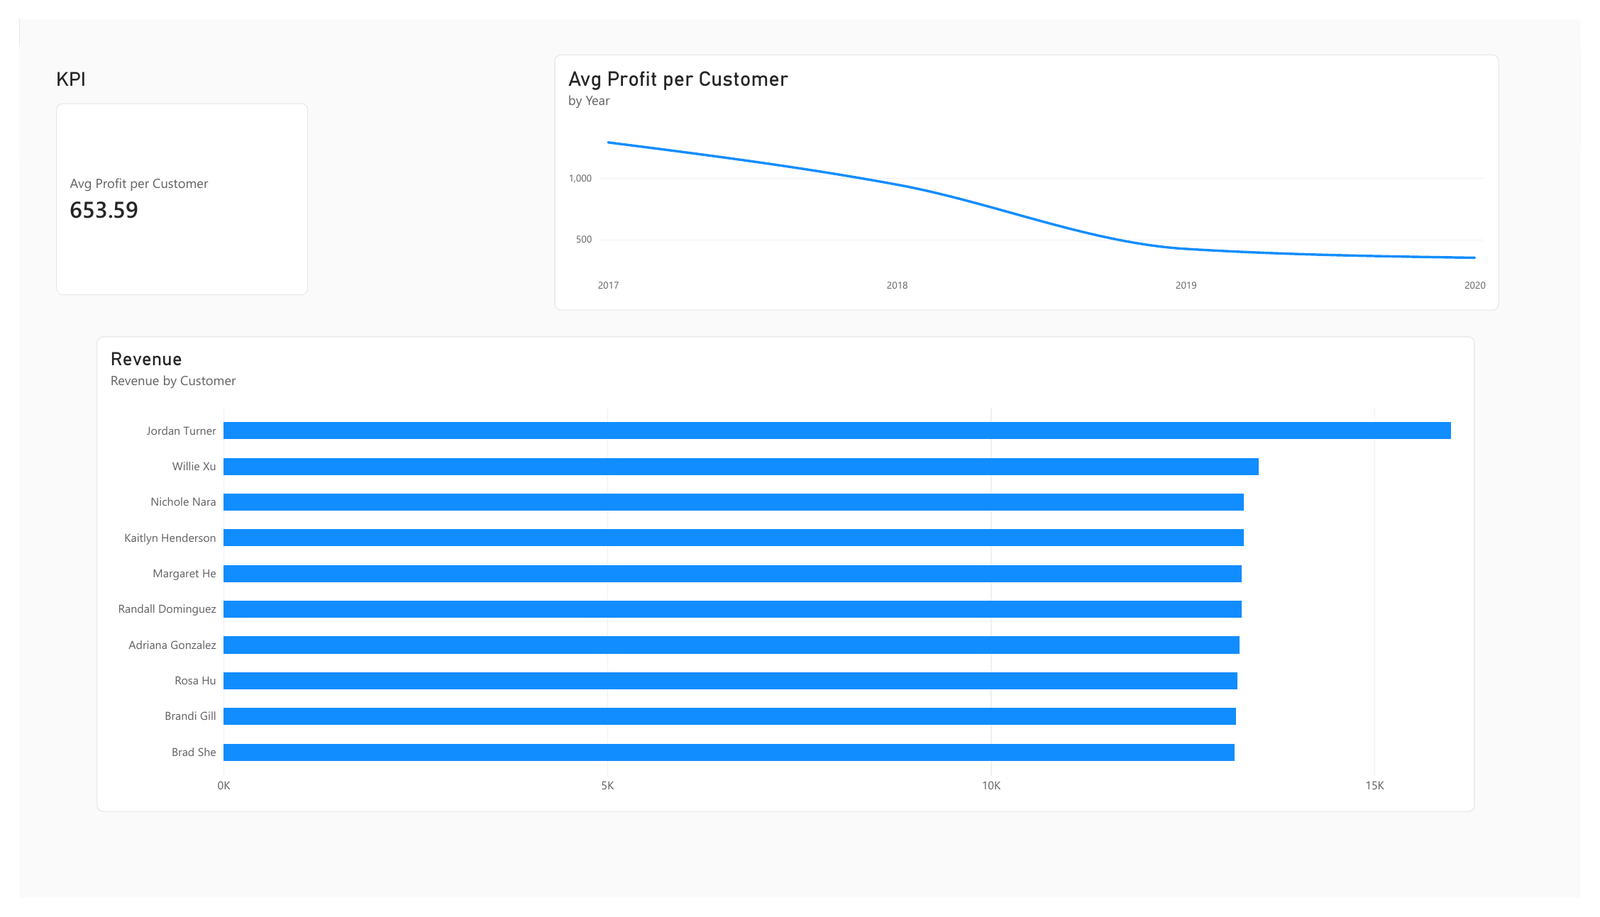

The dashboard page shown, as its layout file describes it:
{"tool":"powerbi","page":{"name":"Customer Analysis","canvas":[1920,1080],"ordinal":3},"visuals":[{"type":"cardVisual","title":"KPI","fields":{"Data":["_measure.Avg Profit per Customer"]},"box":[45,60,310,280],"z":0},{"type":"lineChart","fields":{"Category":["DimDate.Date.Variation.Date Hierarchy.Year","DimDate.Date.Variation.Date Hierarchy.Quarter","DimDate.Date.Variation.Date Hierarchy.Month","DimDate.Date.Variation.Date Hierarchy.Day"],"Y":["_measure.Avg Profit per Customer"]},"box":[657.5,42.5,1162.5,315],"z":1000},{"type":"barChart","title":"Revenue","fields":{"Category":["Dim_Customer.Customer"],"Y":["_measure.Revenue"]},"box":[95,390,1695,585],"z":2000}]}

Visuals, with their boxes in screenshot pixels (x1, y1, x2, y2), scaled from the page's 1920x1080 canvas onto the 1600x917 screenshot:
"KPI" cardVisual: 38 51 296 289
lineChart - DimDate.Date.Variation.Date Hierarchy.Year x DimDate.Date.Variation.Date Hierarchy.Quarter: 548 36 1517 304
"Revenue" barChart: 79 331 1492 828
